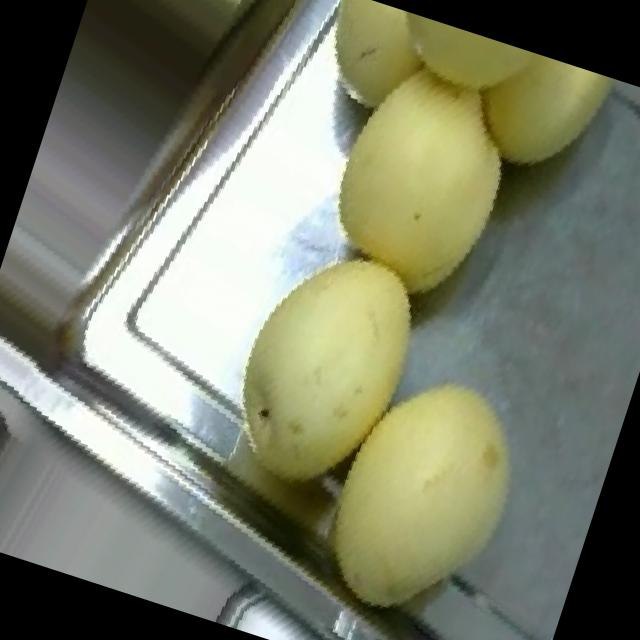Fruit: (174, 197, 476, 540), (260, 320, 578, 640), (272, 16, 570, 343)
